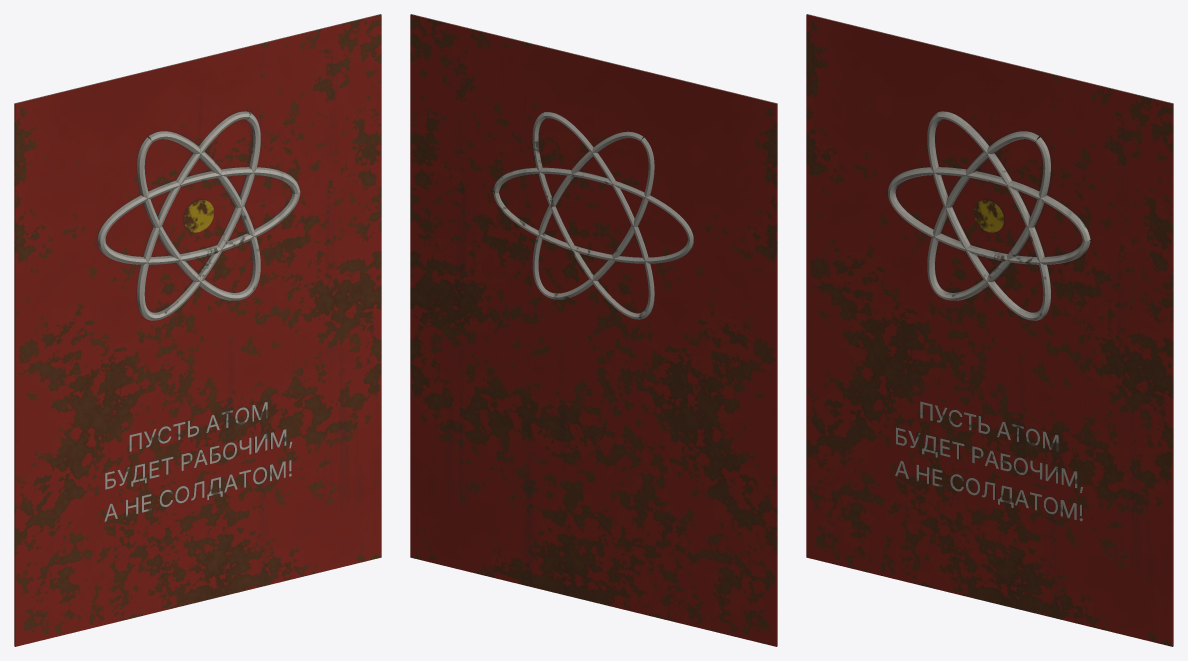
Rendered from SM_Poster_PeacefulAtom.fbx.
The picture shows the model from 3 angles, left to right: view 1: azimuth 30°, elevation 25°; view 2: azimuth 150°, elevation 25°; view 3: azimuth 330°, elevation 25°; orthographic projection.
Visible parts, largest first — view 1: SM_Poster_PeacefulAtom; view 2: SM_Poster_PeacefulAtom; view 3: SM_Poster_PeacefulAtom.
Boxes of the visible parts, x1,y1,x2,y2 form: SM_Poster_PeacefulAtom: (14,14,381,646); SM_Poster_PeacefulAtom: (410,14,777,646); SM_Poster_PeacefulAtom: (806,14,1173,646).
Bounding box in the file's own units: 0.6 × 0.85 × 0.012.
1 material, 1 textured.
